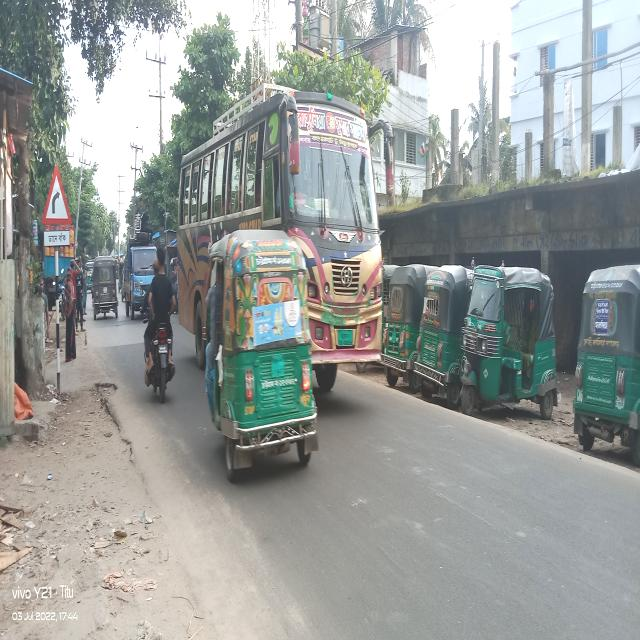bus: (284, 42, 397, 398)
